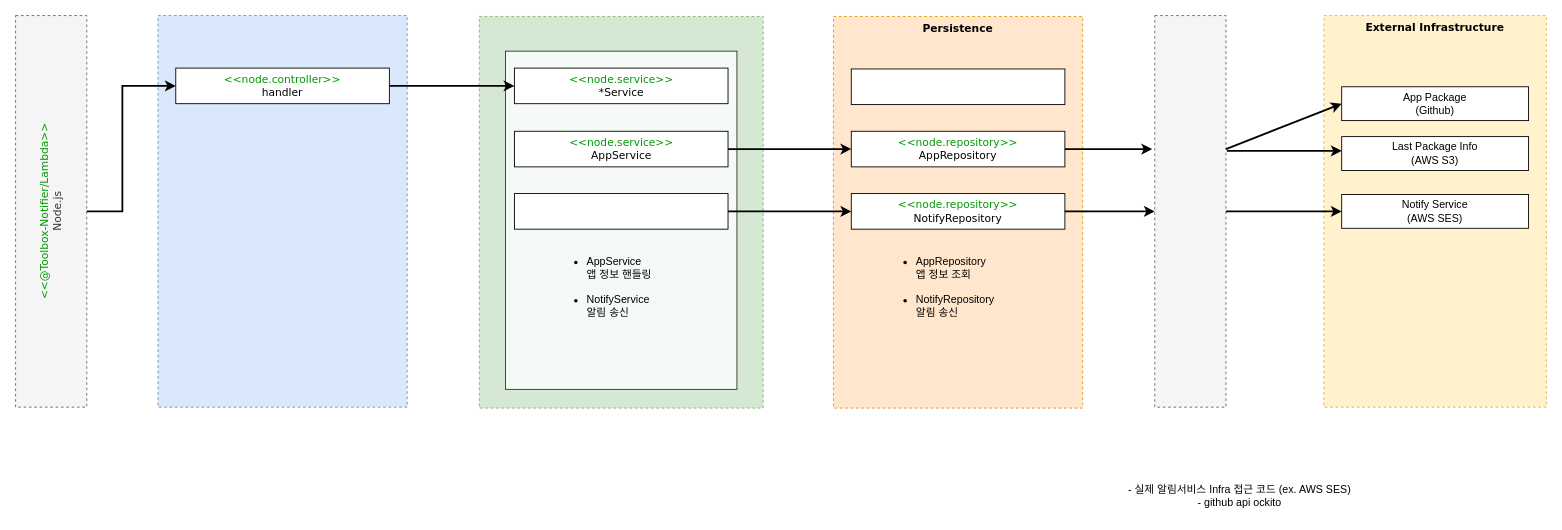
Image size: 1562x530. Some labels were removed from this diagram. The shapes that lost their labels are listed below. From the top down, each one's box as (x1, y1, x2, y2) in pixels, then its label:
(850, 68, 1065, 105): <<node.repository>> *Repository
(157, 15, 407, 407): Presentation
(478, 16, 763, 408): Business
(514, 193, 728, 229): <<node.service>> NotifyService
(1154, 15, 1226, 407): <<external>> NETWORK I/O
